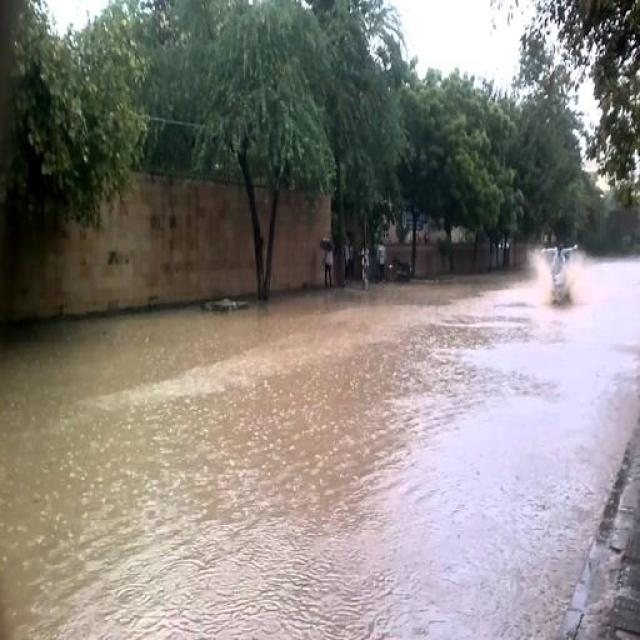puddle: (13, 328, 548, 640), (314, 290, 606, 374)
